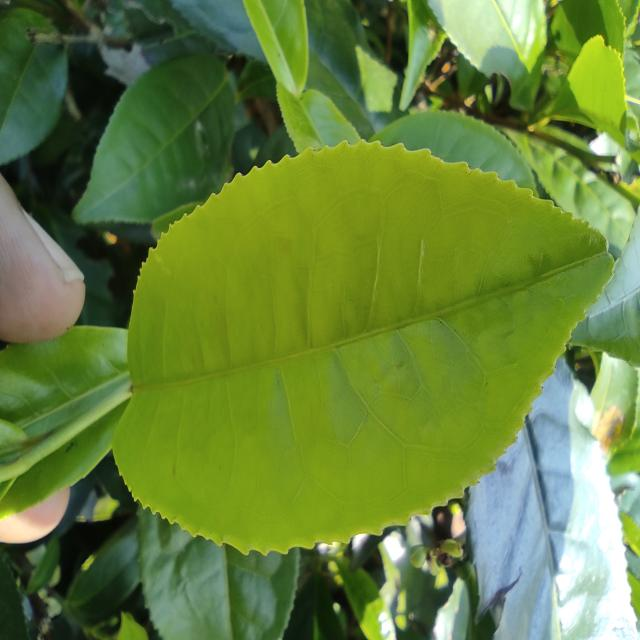Category C 4-7 days: (77, 129, 621, 572)
